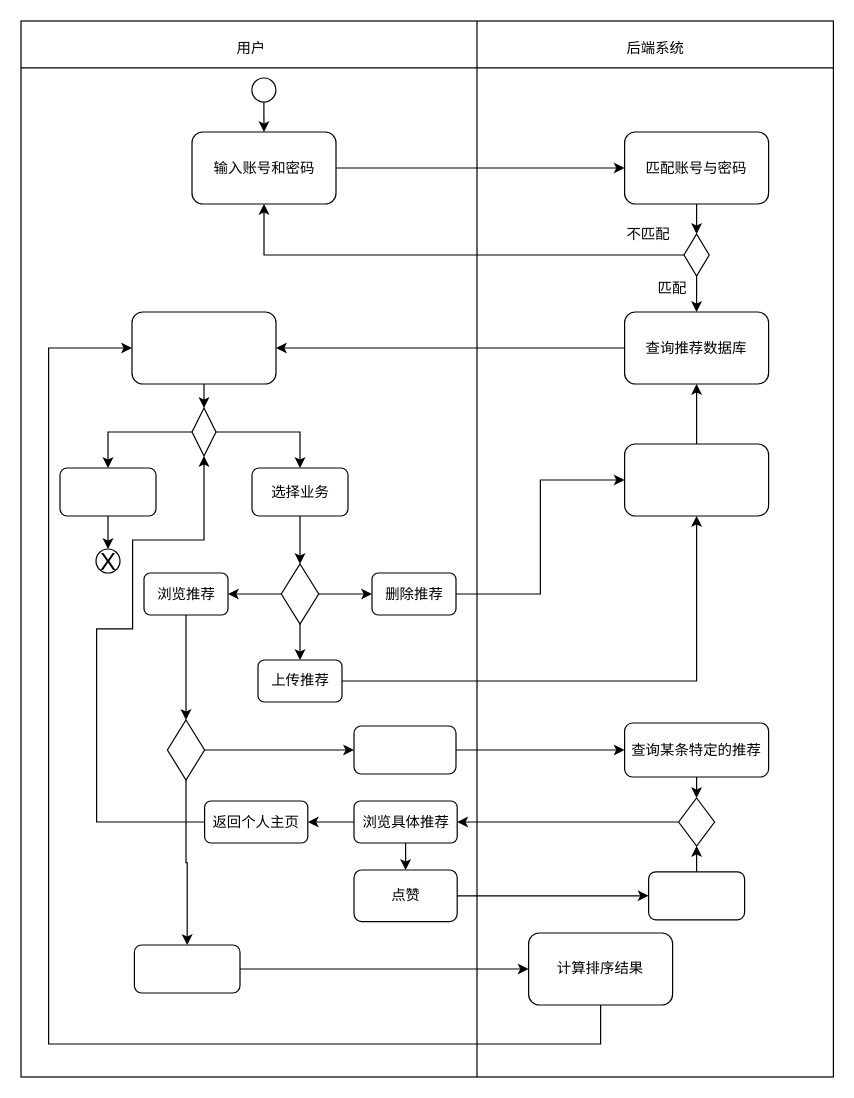
This 854x1098 diagram has some shape labels left out. The shapes that lost their labels are listed below. From the top down, each one's centre as x and y in pixels, then its label:
(x=203, y=347): 进入个人主页
(x=107, y=491): 登出
(x=696, y=479): 修改推荐数据库
(x=404, y=749): 点入某条推荐
(x=696, y=895): 修改点赞 数据库
(x=186, y=968): 关键字排序
